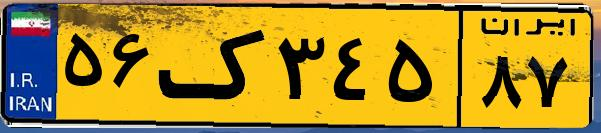3: (270, 28, 330, 110)
4: (330, 28, 385, 110)
5: (385, 28, 445, 110), (57, 26, 110, 100)
6: (110, 28, 158, 98)
7: (525, 38, 570, 115)
8: (475, 38, 525, 113)
ک: (158, 12, 270, 120)
